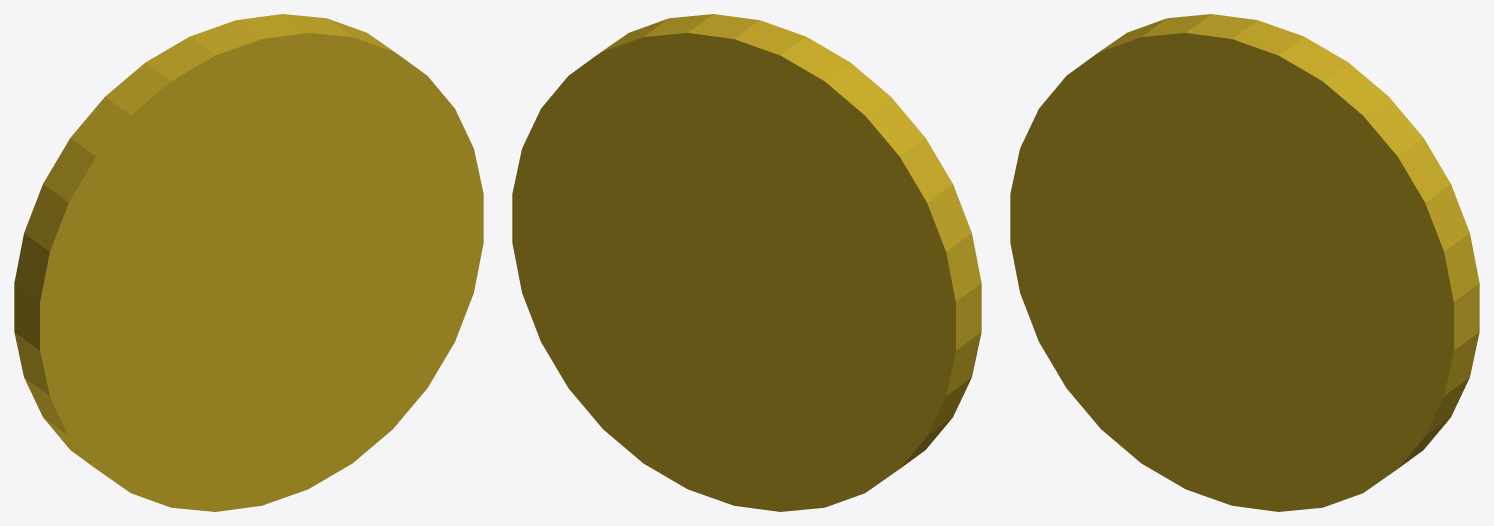
File: coin.fbx
3 views of the same model, side by side, from view 1: azimuth 30°, elevation 25°; view 2: azimuth 150°, elevation 25°; view 3: azimuth 330°, elevation 25° (orthographic).
Visible parts, largest first — view 1: coin; view 2: coin; view 3: coin.
Boxes of the visible parts, box(x1,y1,x2,y2) form: coin: box(14, 14, 483, 511); coin: box(512, 14, 981, 511); coin: box(1010, 14, 1479, 511).
Bounding box in the file's own units: 1.63 × 1.64 × 0.1644.
